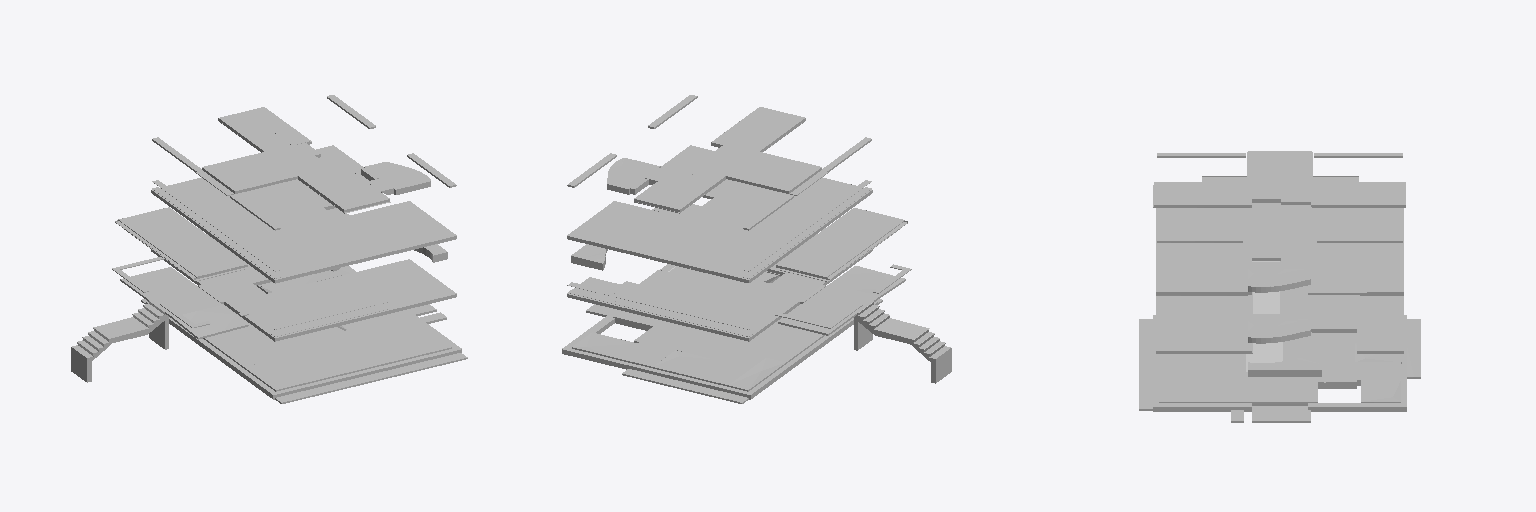
The model's file is Floor Slab.obj.
The picture shows the model from 3 angles: view 1: azimuth 30°, elevation 25°; view 2: azimuth 150°, elevation 25°; view 3: azimuth 270°, elevation 25°; orthographic projection.
Parts seen in each view (by area): view 1: object_29, object_42, object_38, object_39, object_2, object_34, object_4, object_36, object_11, object_1, object_32, object_9 (+2 smaller); view 2: object_29, object_38, object_39, object_42, object_2, object_34, object_4, object_36, object_1, object_18, object_32, object_11 (+8 smaller); view 3: object_29, object_38, object_42, object_39, object_36, object_11, object_1, object_32, object_33, object_35, object_18, object_31 (+3 smaller).
Boxes of the visible parts, box(x1,y1,x2,y2) form: object_29: box(151, 145, 456, 282); object_42: box(203, 278, 451, 391); object_38: box(151, 208, 456, 340); object_39: box(202, 107, 389, 212); object_2: box(118, 207, 247, 277); object_34: box(120, 267, 248, 339); object_4: box(71, 299, 168, 382); object_36: box(146, 266, 461, 399); object_11: box(141, 299, 467, 403); object_1: box(152, 95, 456, 230); object_32: box(364, 162, 430, 194); object_9: box(152, 187, 280, 278); object_29: box(567, 145, 872, 282); object_38: box(567, 204, 872, 340); object_39: box(634, 107, 821, 211); object_42: box(613, 275, 824, 386); object_2: box(776, 208, 904, 277); object_34: box(778, 266, 905, 335); object_4: box(854, 300, 951, 383); object_36: box(562, 274, 877, 399); object_1: box(567, 95, 871, 230); object_18: box(589, 201, 659, 230); object_32: box(607, 158, 660, 194); object_11: box(622, 272, 882, 403); object_29: box(1156, 206, 1403, 294); object_38: box(1156, 261, 1403, 352); object_42: box(1159, 332, 1400, 405); object_39: box(1154, 152, 1405, 206); object_36: box(1152, 315, 1406, 411); object_11: box(1139, 319, 1420, 410); object_1: box(1157, 153, 1402, 242); object_32: box(1248, 269, 1310, 292); object_33: box(1248, 321, 1310, 343); object_35: box(1248, 354, 1321, 376); object_18: box(1308, 270, 1359, 294); object_31: box(1246, 291, 1282, 371).
Size of the model in its own units: 60.34 by 28.12 by 41.77.